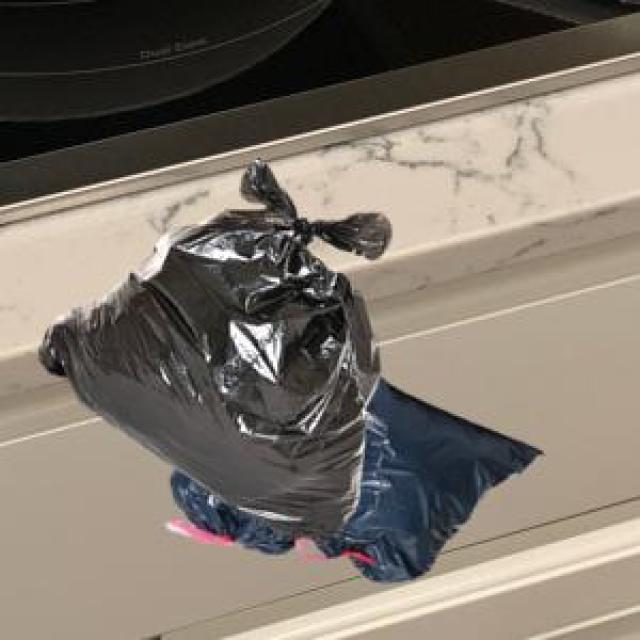waste: (40, 161, 540, 581)
